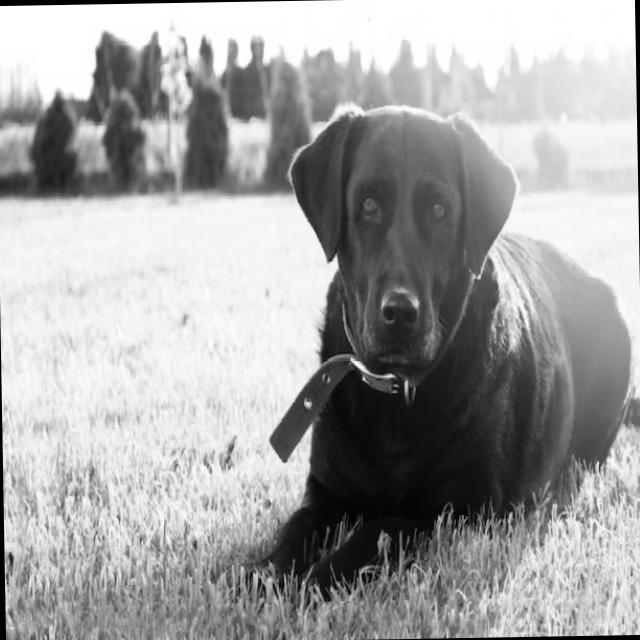laying down: (229, 90, 640, 611)
